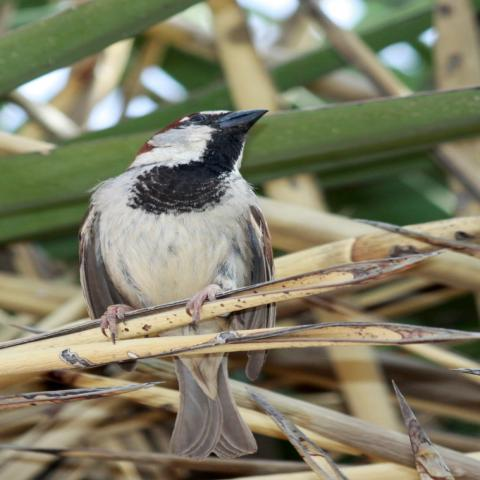bird: (75, 106, 280, 460)
